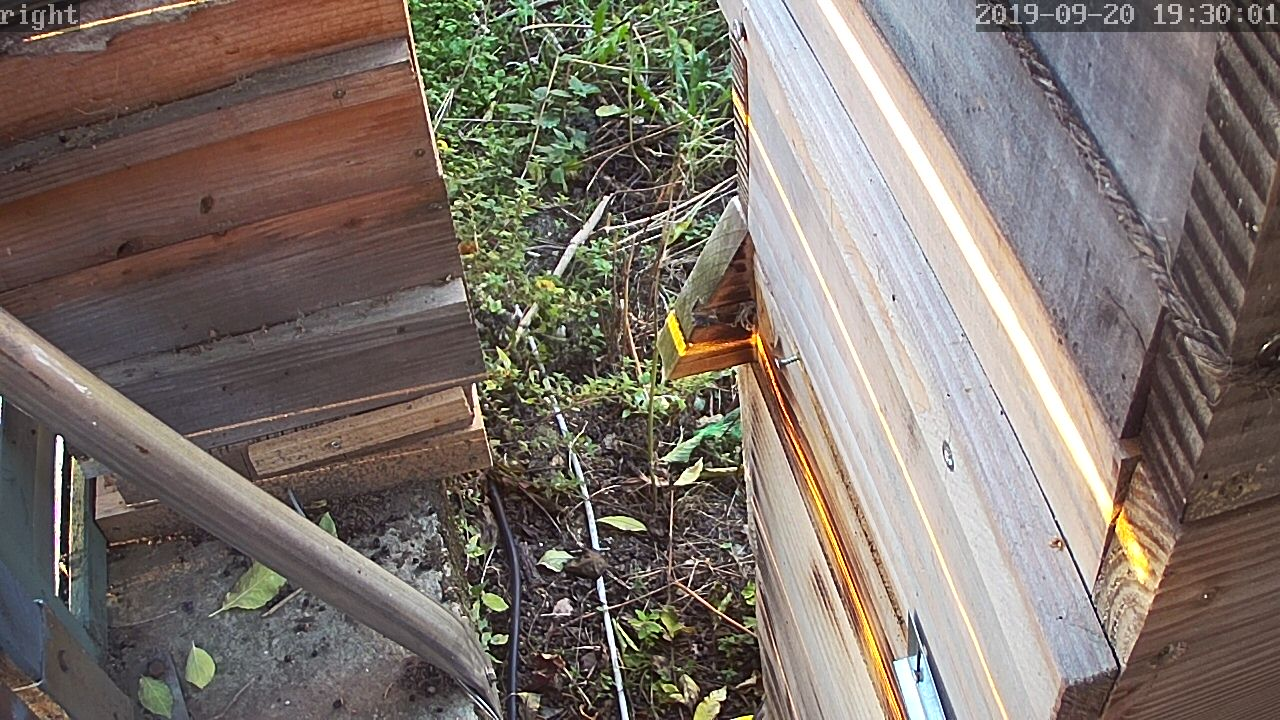hornet: (48, 16, 1229, 717)
